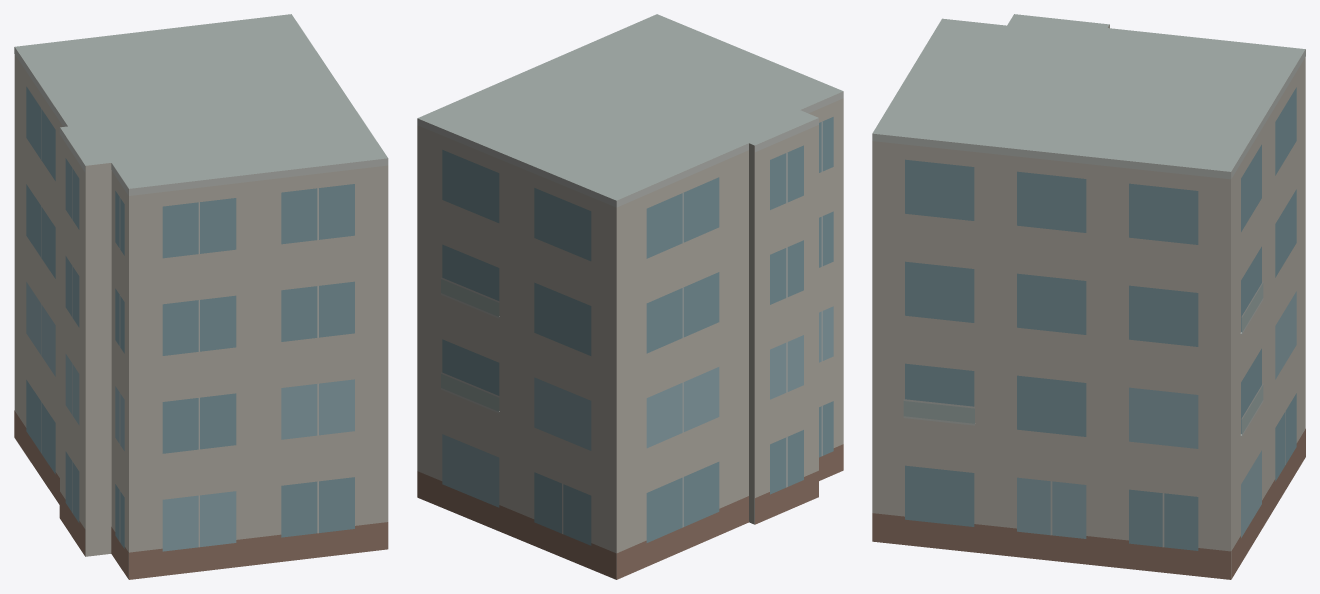
The model's file is survey-upis-32806379.glb.
3 renders of one model, left to right at view 1: azimuth 30°, elevation 25°; view 2: azimuth 150°, elevation 25°; view 3: azimuth 270°, elevation 25°, orthographic. The views are drawn at different scales.
Parts seen in each view (by area): view 1: survey-upis-32806379.tmp; view 2: survey-upis-32806379.tmp; view 3: survey-upis-32806379.tmp.
Part boxes in pixels (x1,y1,x2,y2): survey-upis-32806379.tmp: (14, 14, 388, 579); survey-upis-32806379.tmp: (417, 14, 843, 579); survey-upis-32806379.tmp: (872, 14, 1305, 579).
Bounding box in the file's own units: 11.09 × 13.35 × 12.87.
